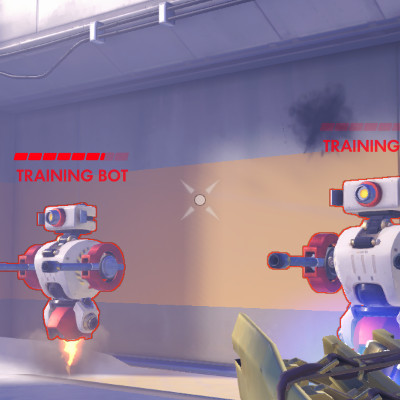hpbar: (13, 152, 130, 162), (319, 122, 400, 131)
